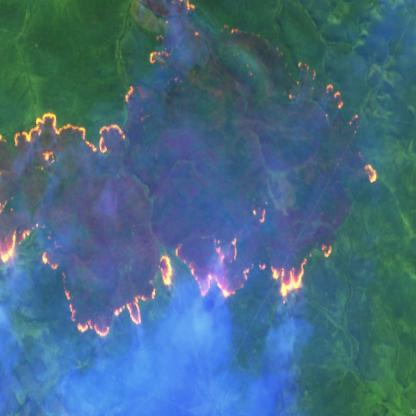fire: (62, 234, 175, 344), (167, 243, 341, 299), (118, 0, 202, 105), (0, 113, 133, 172), (282, 54, 366, 138), (0, 203, 38, 260), (214, 18, 244, 67), (358, 157, 381, 189), (39, 242, 60, 276)
